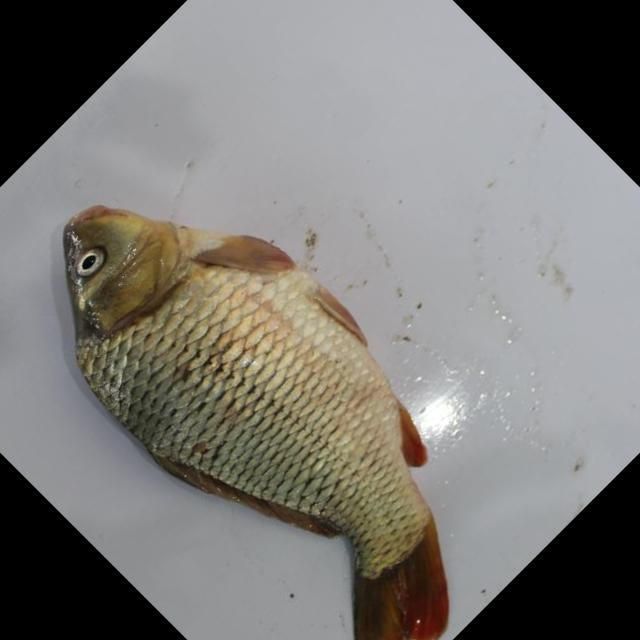CommonCarp: (57, 200, 501, 640)
